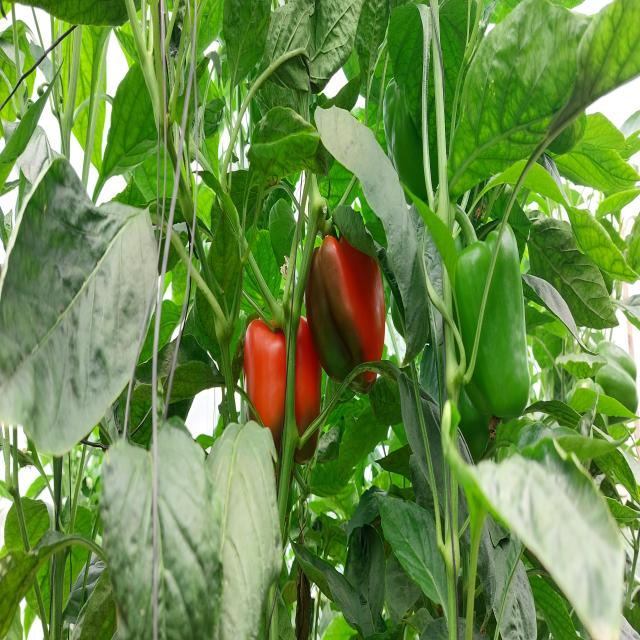BrownishRed--Can-be-Harvested: (303, 240, 386, 397), (244, 313, 322, 467)
Green--Not-ready-to-harvest: (450, 243, 538, 450), (589, 332, 640, 440)
